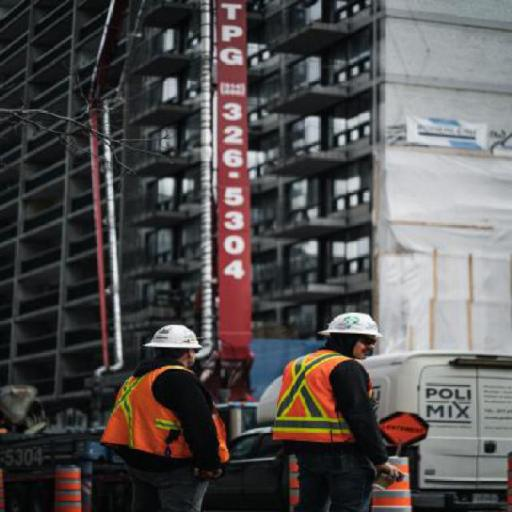hardhat: (312, 308, 390, 346), (140, 320, 214, 355)
person: (260, 301, 404, 506), (86, 315, 240, 506)
vest: (85, 366, 242, 464), (258, 351, 377, 447)
